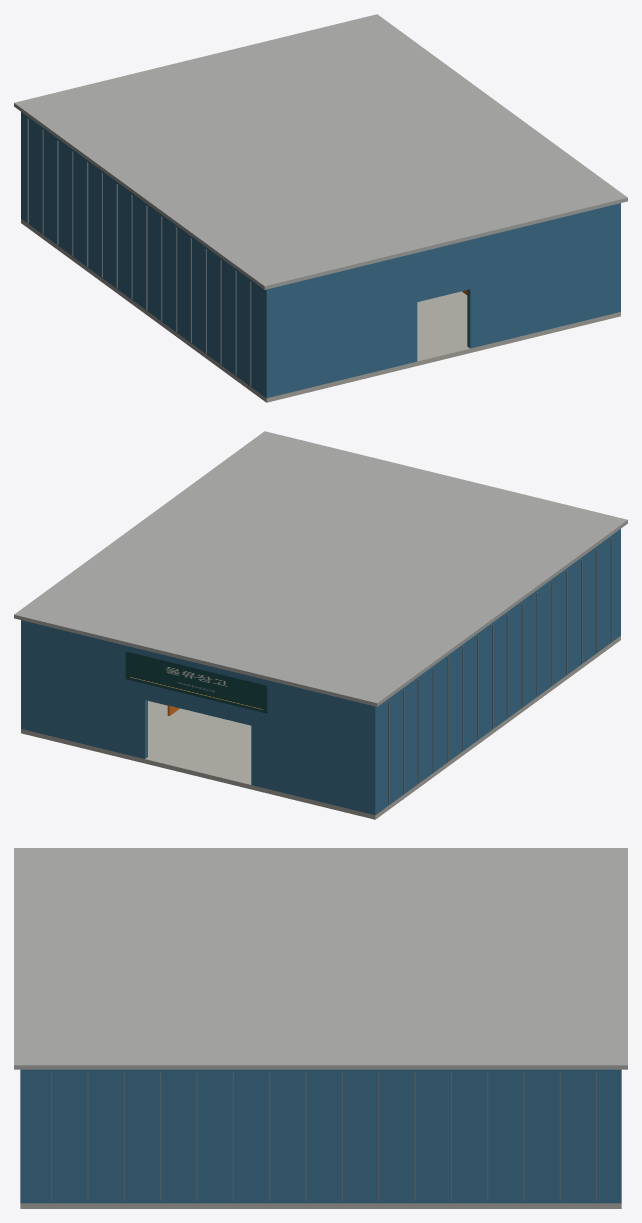
Rendered from warehouse.glb.
3 views of the same model, one above another, from view 1: azimuth 30°, elevation 25°; view 2: azimuth 150°, elevation 25°; view 3: azimuth 270°, elevation 25° (orthographic). The views are drawn at different scales.
Parts seen in each view (by area): view 1: warehouse; view 2: warehouse; view 3: warehouse.
Boxes of the visible parts, left/top/right/bottom form: warehouse: left=14, top=14, right=627, bottom=402; warehouse: left=14, top=431, right=627, bottom=819; warehouse: left=14, top=848, right=627, bottom=1208.
Bounding box in the file's own units: 20.5 × 6.44 × 24.5.
Materials: 7 (1 with a texture image).
